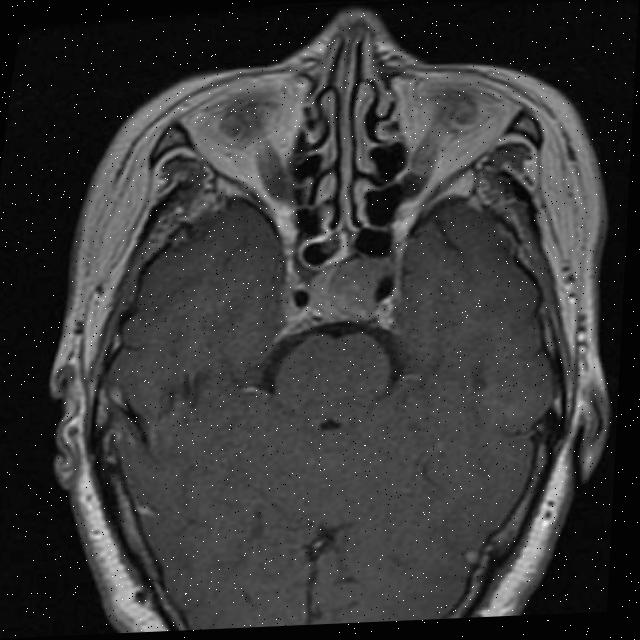Pituitary: (306, 258, 383, 325)
